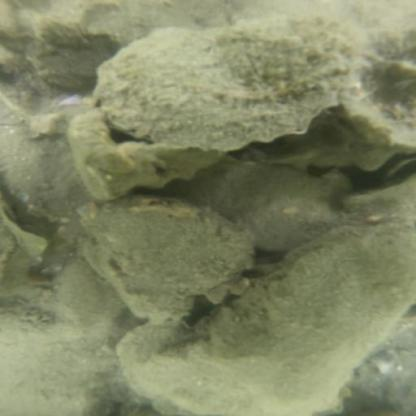3: (185, 216, 416, 409)
Oyster-Closed: (94, 19, 365, 146)
Oyster-Open: (91, 199, 257, 314), (190, 163, 339, 250)
